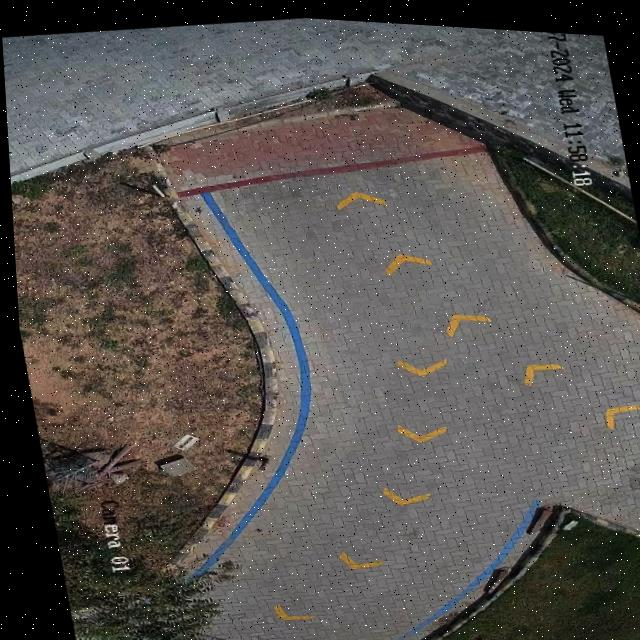No Car: (2, 14, 640, 640)
